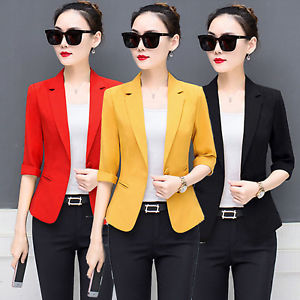F_W_suit jacket: (96, 81, 217, 223)
